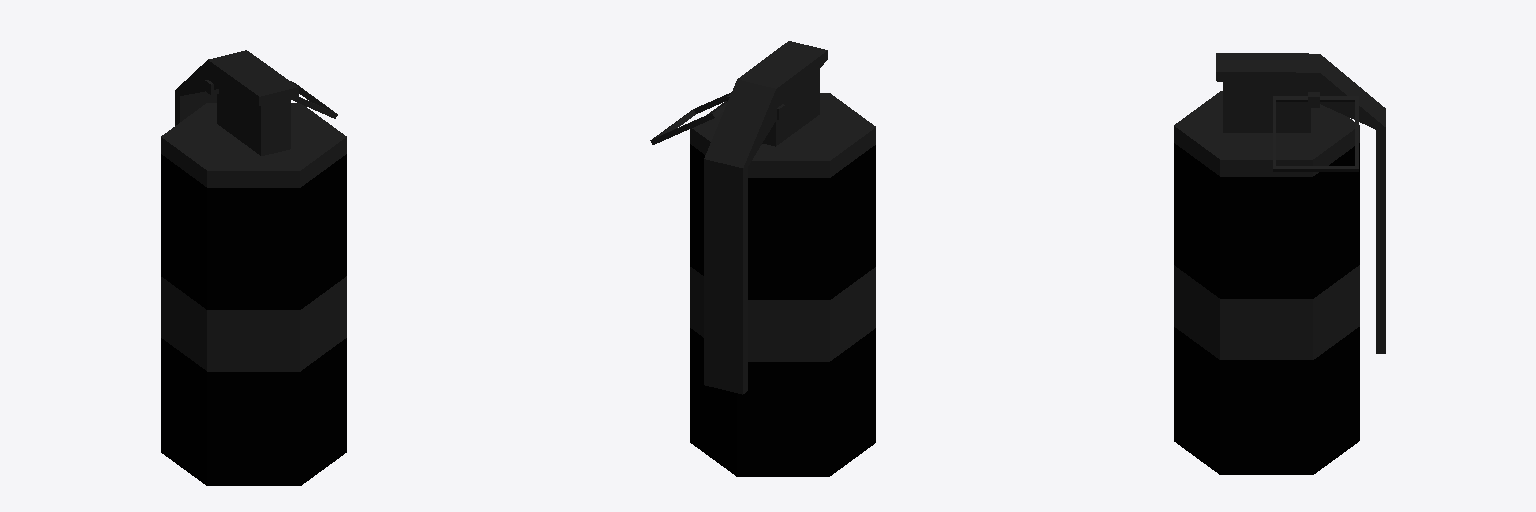
The model's file is Grenade_Concussion_MK3.obj.
3 views of the same model, side by side, from view 1: azimuth 30°, elevation 25°; view 2: azimuth 150°, elevation 25°; view 3: azimuth 270°, elevation 25° (orthographic).
Visible parts, largest first — view 1: Grenade_Concussion_MK3_Cube.013; view 2: Grenade_Concussion_MK3_Cube.013; view 3: Grenade_Concussion_MK3_Cube.013.
Part boxes in pixels (bbox=[...]): Grenade_Concussion_MK3_Cube.013: bbox=[161, 50, 346, 485]; Grenade_Concussion_MK3_Cube.013: bbox=[650, 41, 875, 476]; Grenade_Concussion_MK3_Cube.013: bbox=[1174, 53, 1385, 474].
Size of the model in its own units: 0.0541 by 0.1246 by 0.0634.